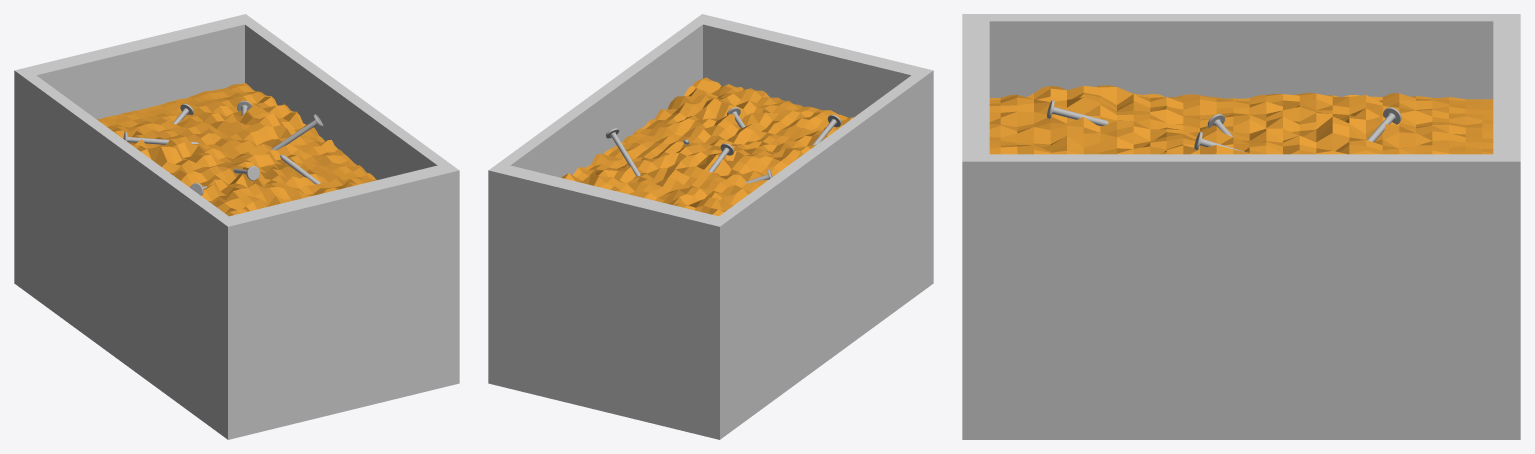
Rendered from nail_crate.fbx.
3 renders of one model, left to right at view 1: azimuth 30°, elevation 25°; view 2: azimuth 150°, elevation 25°; view 3: azimuth 270°, elevation 25°, orthographic. The views are drawn at different scales.
Visible parts, largest first — view 1: Cube, Plane; view 2: Cube, Plane; view 3: Cube, Plane.
Part boxes in pixels (x1,y1,x2,y2): Cube: (14, 14, 459, 439); Plane: (97, 83, 376, 216); Cube: (488, 14, 933, 439); Plane: (561, 77, 853, 216); Cube: (962, 14, 1520, 439); Plane: (989, 85, 1493, 154).
Size of the model in its own units: 200 by 176 by 320.
